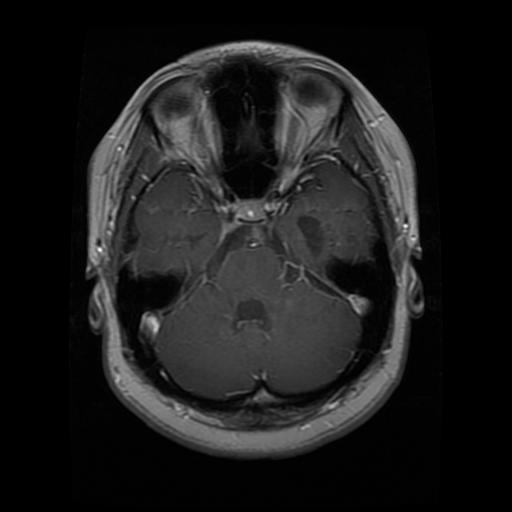Gliomia_tumour: (291, 200, 339, 260)
